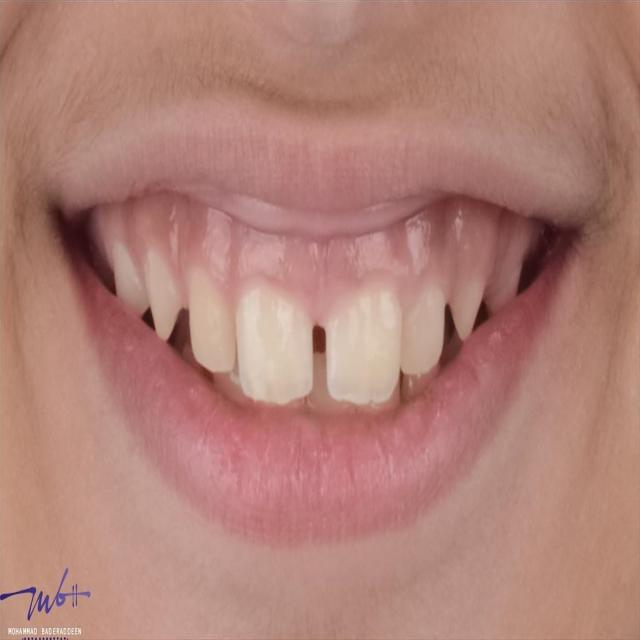tooth: (223, 260, 313, 440), (317, 265, 402, 417), (403, 256, 445, 398), (184, 254, 223, 396), (143, 202, 177, 353), (454, 246, 480, 368), (106, 225, 136, 318)
